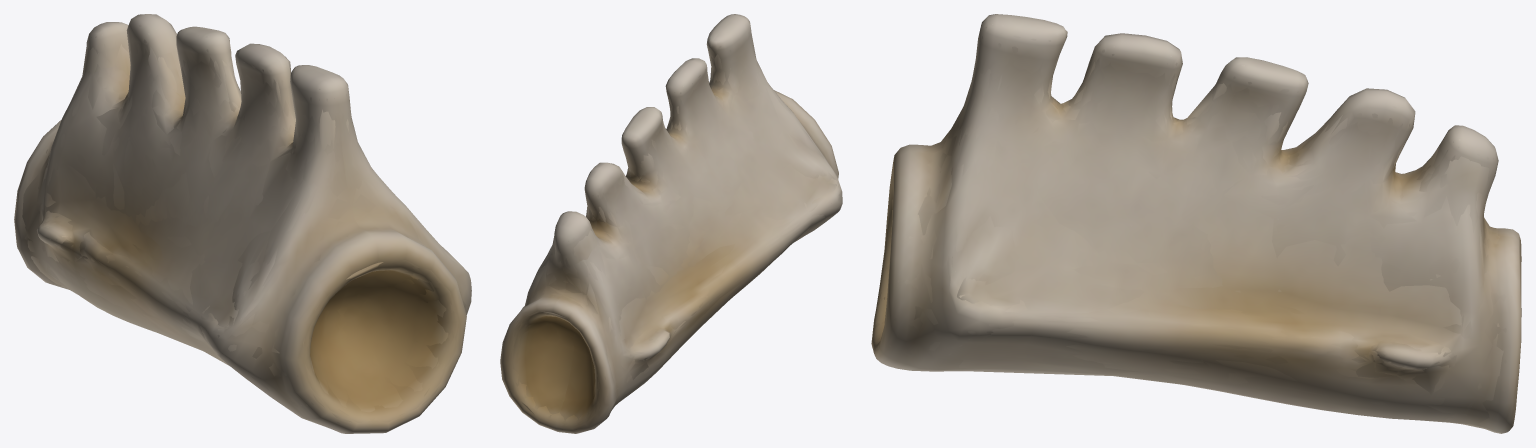
File: Sacral Vertebrae.fbx
The picture shows the model from 3 angles, left to right: view 1: azimuth 30°, elevation 25°; view 2: azimuth 150°, elevation 25°; view 3: azimuth 270°, elevation 25°; orthographic projection. The views are drawn at different scales.
Parts seen in each view (by area): view 1: Sacral Vertebrae, Sacral Vertebrae low, Sacral Vertebrae high; view 2: Sacral Vertebrae, Sacral Vertebrae low, Sacral Vertebrae high; view 3: Sacral Vertebrae, Sacral Vertebrae low, Sacral Vertebrae high.
Boxes of the visible parts, left/top/right/bottom form: Sacral Vertebrae: left=14, top=14, right=471, bottom=433; Sacral Vertebrae low: left=22, top=44, right=466, bottom=421; Sacral Vertebrae high: left=15, top=17, right=460, bottom=429; Sacral Vertebrae: left=500, top=14, right=842, bottom=433; Sacral Vertebrae low: left=512, top=34, right=838, bottom=420; Sacral Vertebrae high: left=505, top=16, right=839, bottom=429; Sacral Vertebrae: left=871, top=14, right=1521, bottom=433; Sacral Vertebrae low: left=874, top=56, right=1520, bottom=428; Sacral Vertebrae high: left=873, top=20, right=1520, bottom=428.
Bounding box in the file's own units: 3.47 × 5 × 7.22.
1 material, 1 textured.
